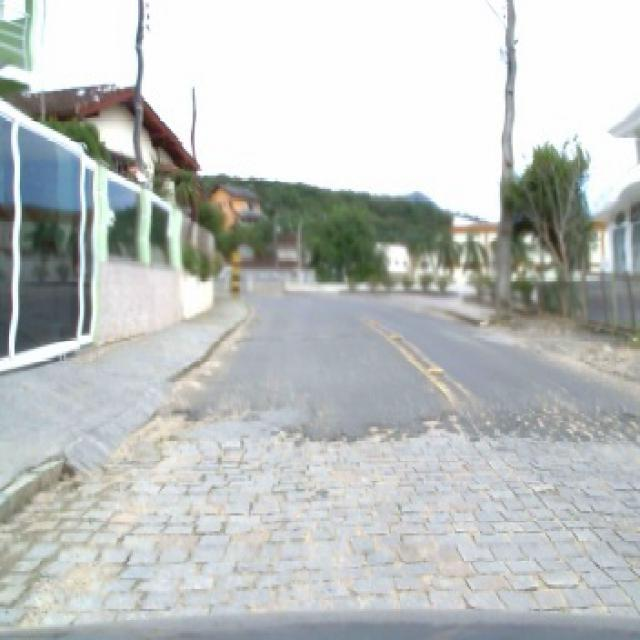Poth-hole: (273, 386, 640, 444), (147, 404, 205, 436), (429, 364, 446, 374), (392, 331, 403, 338)
